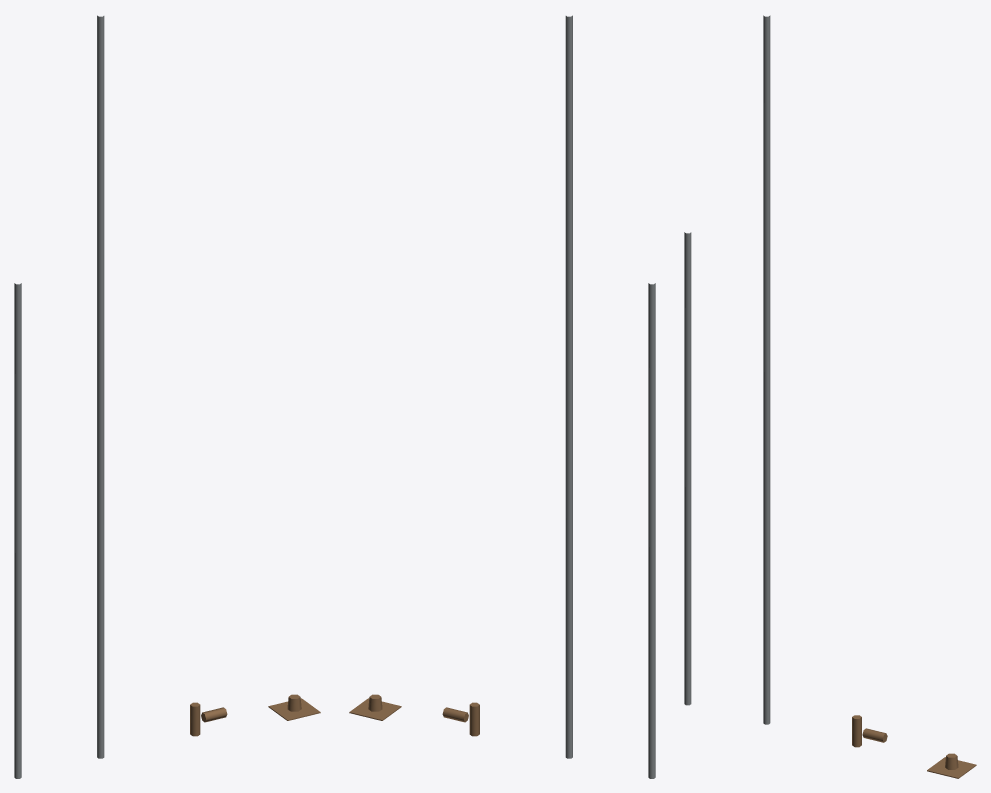
Rendered from SM_PipeKit.glb.
3 views of the same model, side by side, from view 1: azimuth 30°, elevation 25°; view 2: azimuth 150°, elevation 25°; view 3: azimuth 330°, elevation 25° (orthographic). The views are drawn at different scales.
Parts seen in each view (by area): view 1: SM_Pipe_300, SM_Pipe_200, SM_PipeFoot_Plate; view 2: SM_Pipe_300, SM_Pipe_200, SM_PipeFoot_Plate; view 3: SM_Pipe_300, SM_Pipe_200.
Part boxes in pixels (x1,y1,x2,y2): SM_Pipe_300: [97, 15, 104, 758]; SM_Pipe_200: [14, 283, 21, 778]; SM_PipeFoot_Plate: [268, 698, 320, 720]; SM_Pipe_300: [565, 15, 572, 758]; SM_Pipe_200: [648, 283, 655, 778]; SM_PipeFoot_Plate: [349, 698, 401, 720]; SM_Pipe_300: [763, 15, 770, 724]; SM_Pipe_200: [684, 232, 691, 705].
Bounding box in the file's own units: 1.25 × 3 × 0.14.
